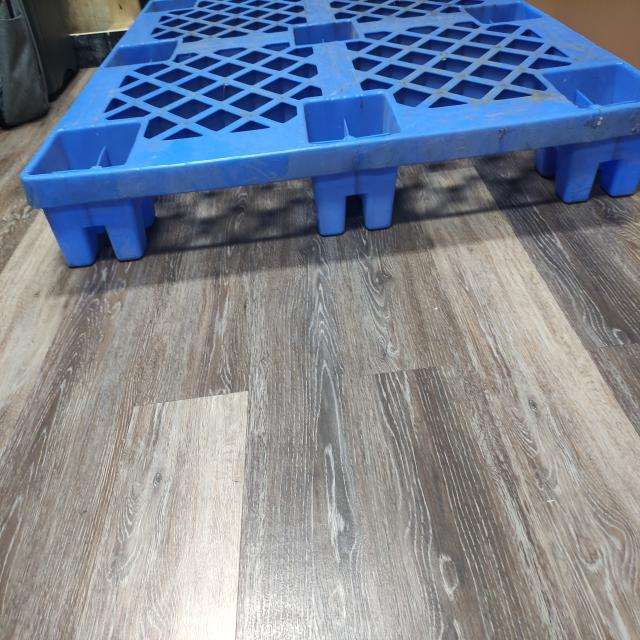block: (39, 202, 142, 268), (314, 174, 398, 234), (566, 137, 640, 203)
front: (7, 112, 640, 265)
